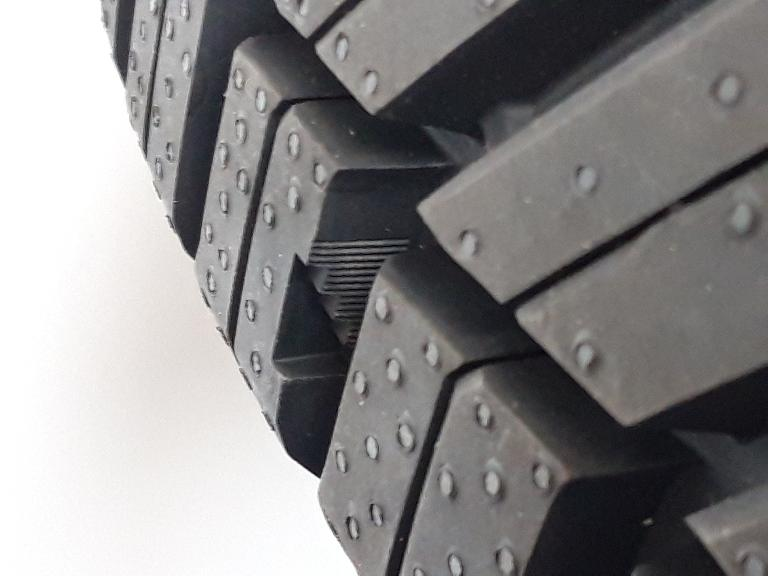temoin:100: (268, 238, 396, 382)
